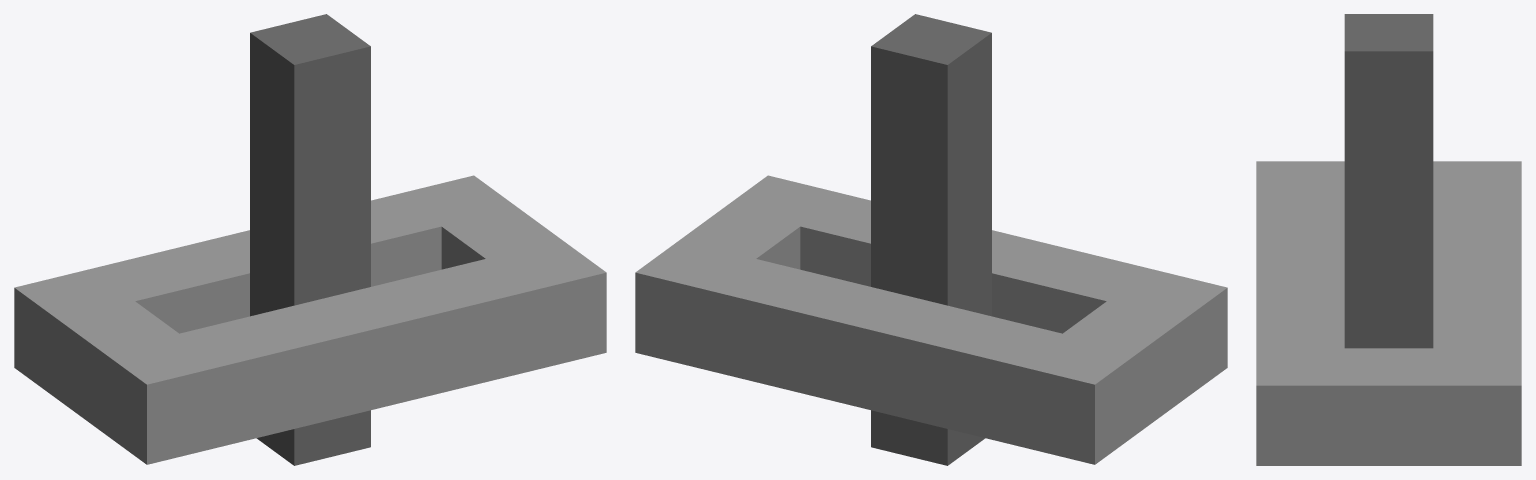
The model's file is lever.gltf.
3 views of the same model, side by side, from view 1: azimuth 30°, elevation 25°; view 2: azimuth 150°, elevation 25°; view 3: azimuth 270°, elevation 25° (orthographic).
Visible parts, largest first — view 1: cube (×5); view 2: cube (×5); view 3: cube (×4).
Boxes of the visible parts, bbox=[...] form: cube (×5): bbox=[14, 14, 606, 465]; cube (×5): bbox=[635, 14, 1227, 465]; cube (×4): bbox=[1256, 14, 1521, 465].
Bounding box in the file's own units: 0.375 × 0.3125 × 0.1875.
1 material, 1 textured.
